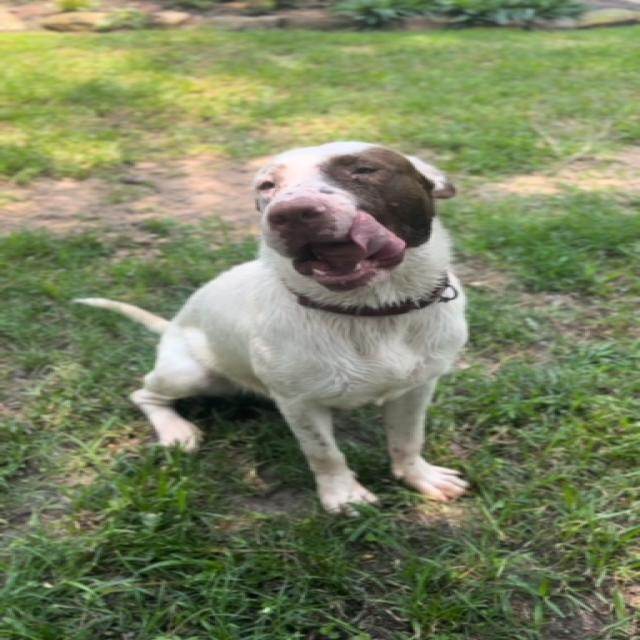labrador_retriever_dog: (219, 142, 489, 308)
